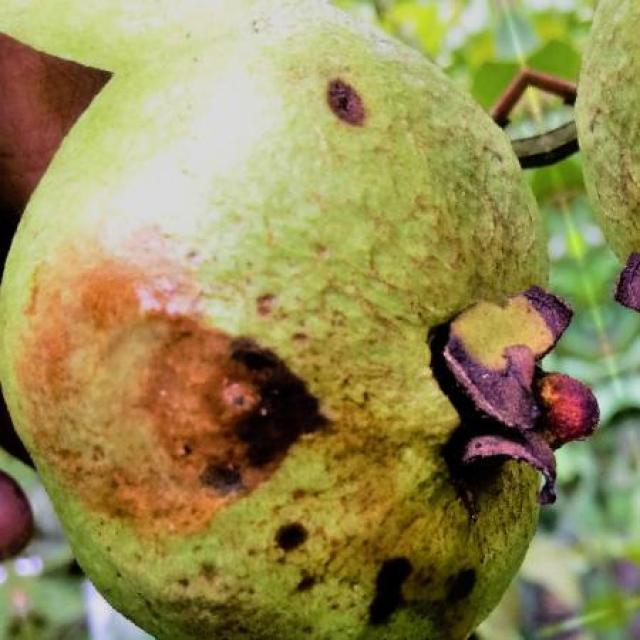Styler and Root: (0, 0, 545, 640)
